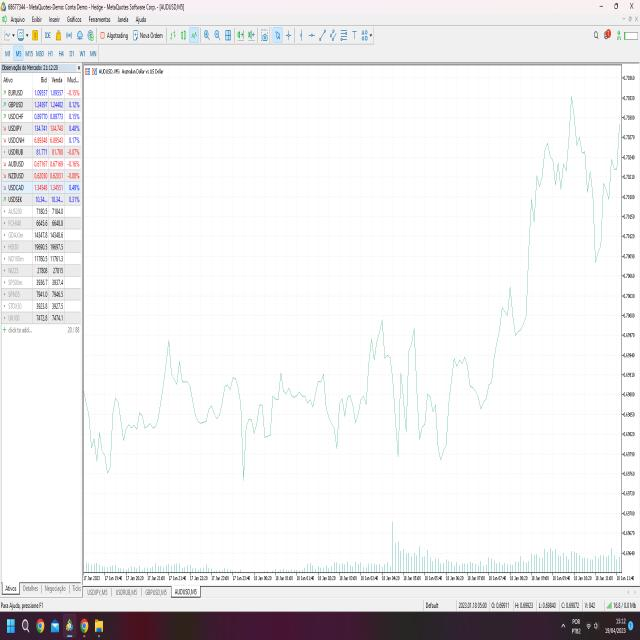fundo_duplo: (412, 292, 459, 487)
topo_duplo: (523, 74, 599, 320)
